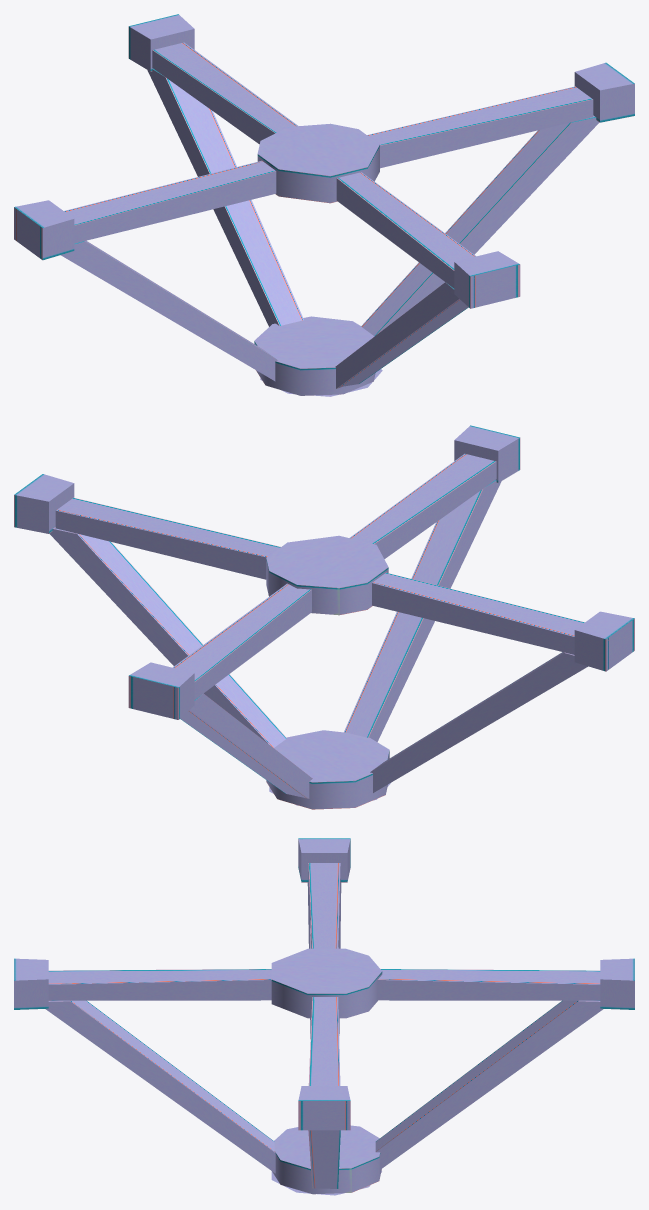
Rendered from LitFloodLightFastA3.fbx.
3 renders of one model, top to bottom at view 1: azimuth 30°, elevation 25°; view 2: azimuth 150°, elevation 25°; view 3: azimuth 270°, elevation 25°, orthographic. The views are drawn at different scales.
Visible parts, largest first — view 1: LitFloodLightFastA3; view 2: LitFloodLightFastA3; view 3: LitFloodLightFastA3.
Part boxes in pixels (box(x1,y1,x2,y2)): LitFloodLightFastA3: box(14, 14, 634, 396); LitFloodLightFastA3: box(14, 425, 634, 809); LitFloodLightFastA3: box(14, 838, 634, 1195).
Size of the model in its own units: 181 by 65.7 by 181.
1 material, 1 textured.
